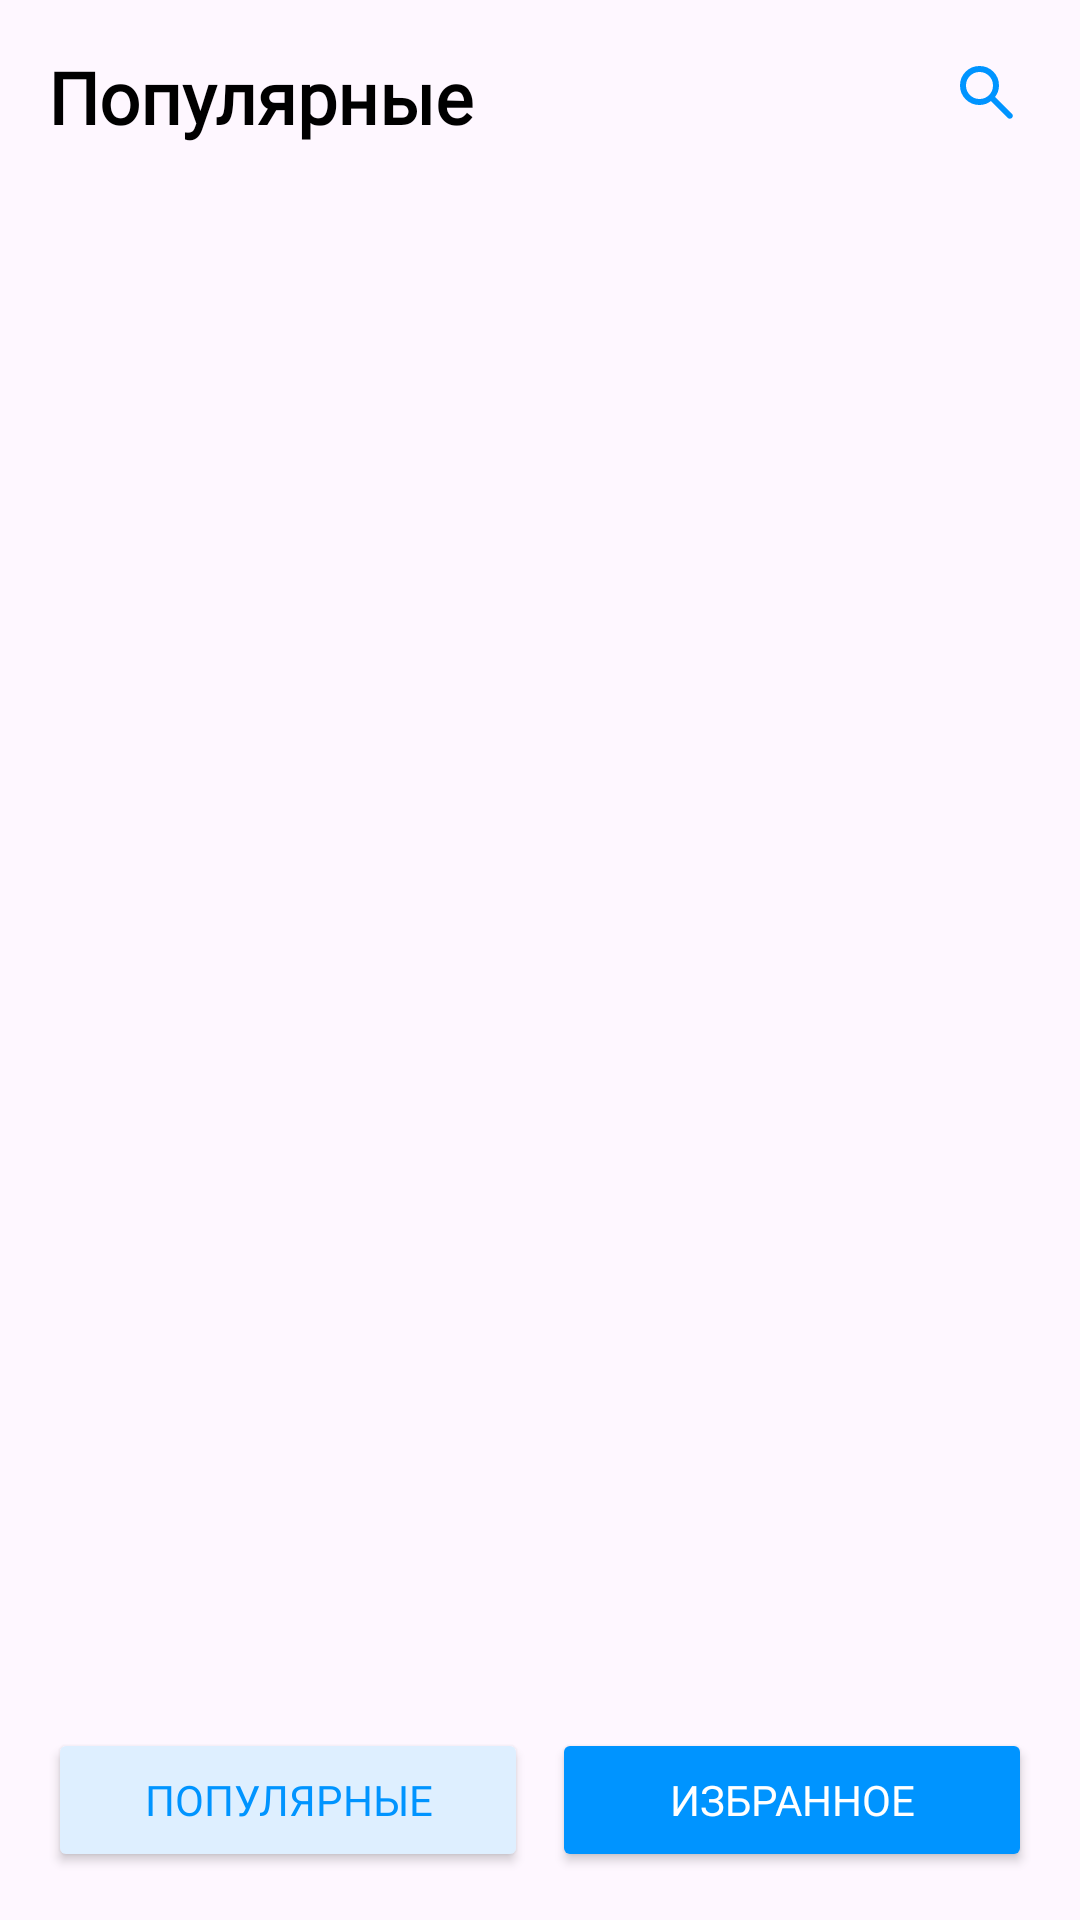

Screen size 1080 x 1920. Icon name, then its center in pixels as point (x, y):
search icon: point (986, 92)
